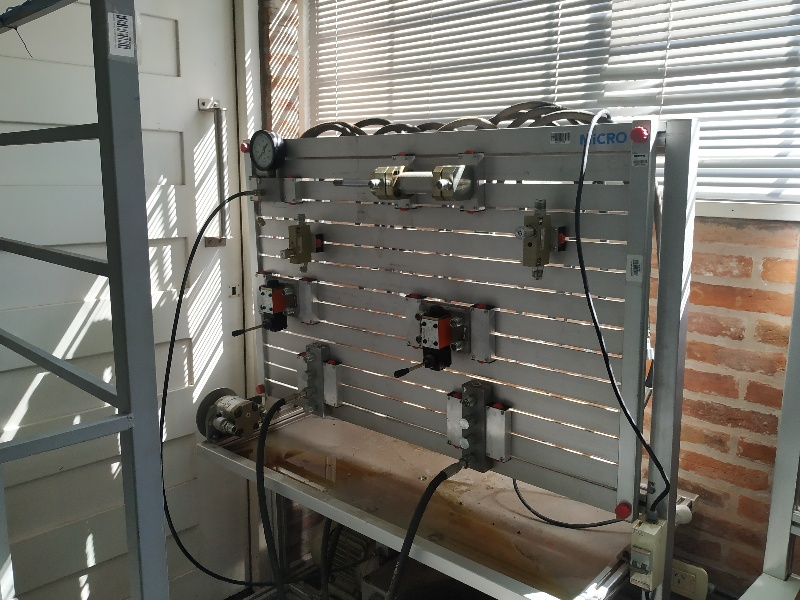Tablero 5: (241, 132, 650, 523)
